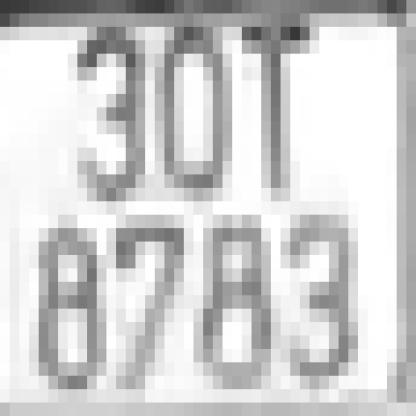0: (155, 27, 222, 201)
3: (68, 27, 145, 201), (271, 214, 348, 376)
7: (116, 214, 184, 376)
8: (29, 215, 106, 389), (194, 201, 261, 376)
T: (232, 27, 310, 201)
